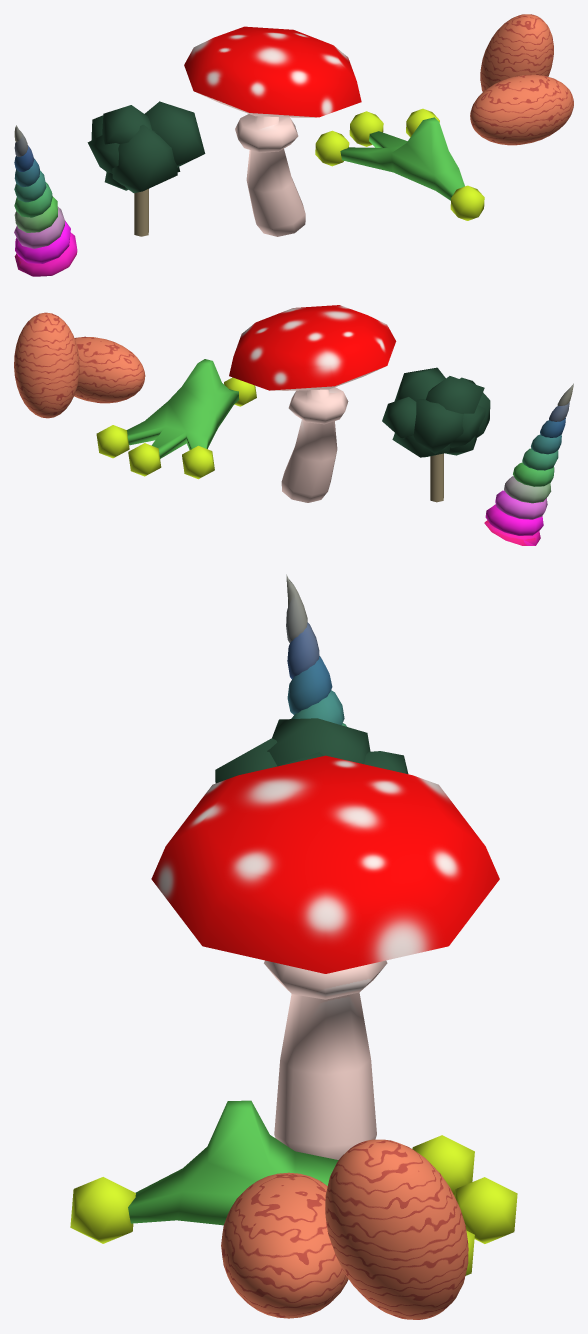
The model's file is prísada.fbx.
3 views of the same model, one above another, from view 1: azimuth 30°, elevation 25°; view 2: azimuth 150°, elevation 25°; view 3: azimuth 270°, elevation 25° (orthographic). The views are drawn at different scales.
Visible parts, largest first — view 1: Cylinder, vajca, krik, zaba, roh; view 2: Cylinder, vajca, zaba, krik, roh; view 3: Cylinder, vajca, zaba, krik, roh.
Boxes of the visible parts, bbox=[...] form: Cylinder: bbox=[184, 26, 361, 236]; vajca: bbox=[470, 14, 573, 145]; krik: bbox=[87, 101, 205, 236]; zaba: bbox=[315, 108, 484, 220]; roh: bbox=[14, 125, 77, 276]; Cylinder: bbox=[229, 305, 396, 502]; vajca: bbox=[14, 312, 145, 418]; zaba: bbox=[96, 359, 256, 479]; krik: bbox=[382, 367, 490, 502]; roh: bbox=[484, 383, 573, 545]; Cylinder: bbox=[151, 755, 499, 1159]; vajca: bbox=[221, 1139, 468, 1319]; zaba: bbox=[70, 1100, 517, 1275]; krik: bbox=[215, 718, 408, 783]; roh: bbox=[286, 574, 346, 726].
Bounding box in the file's own units: 1150 × 377 × 422.
Materials: 8 (4 with a texture image).
